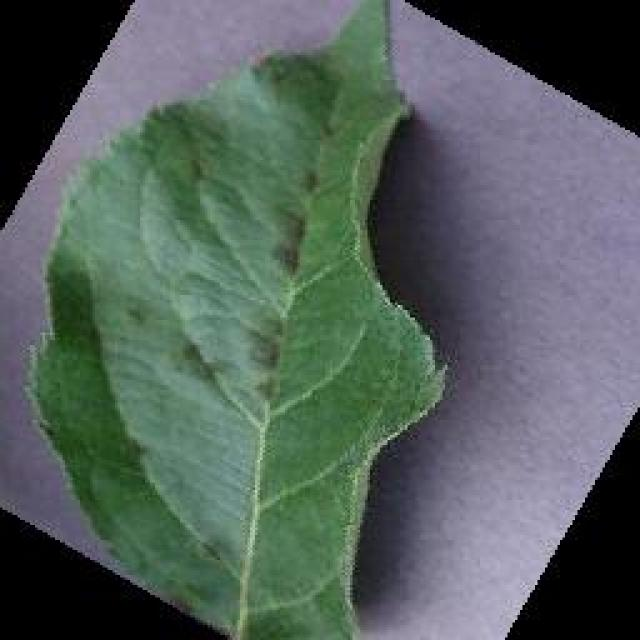apple scab disease: (22, 0, 450, 638)
